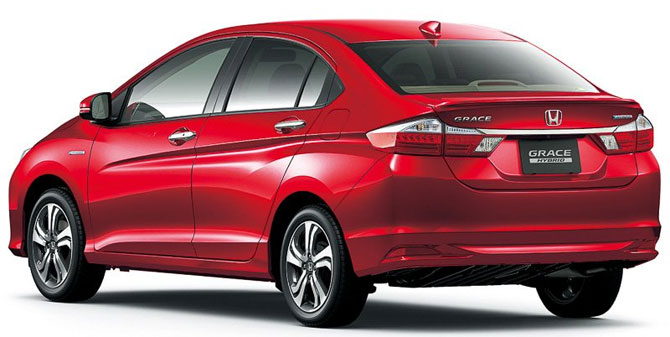Carro: (7, 20, 661, 328)
